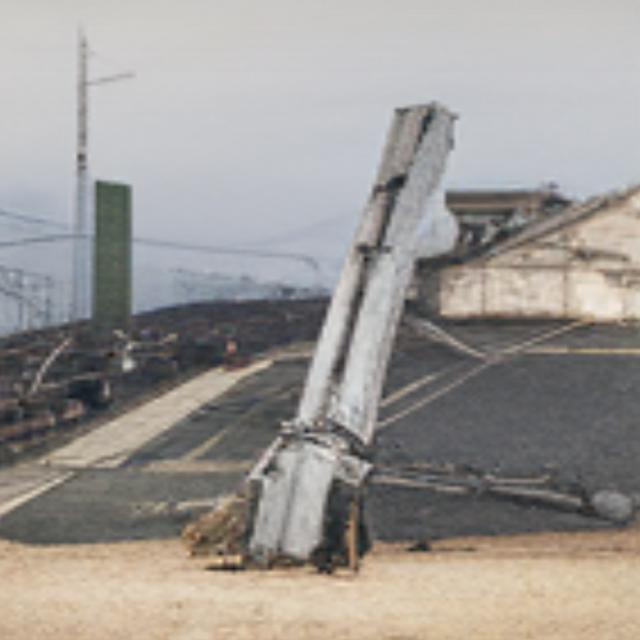Inclined Pole: (228, 100, 460, 571)
